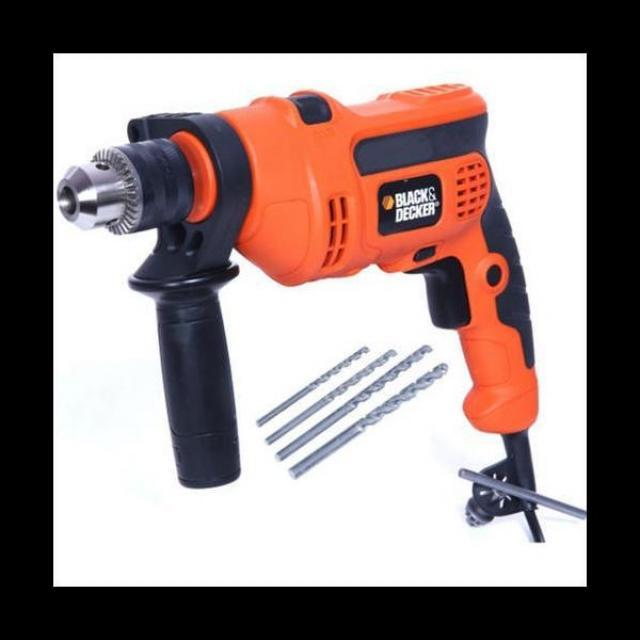drill: (56, 80, 587, 544)
